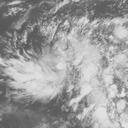cyclone: (13, 13, 121, 112)
